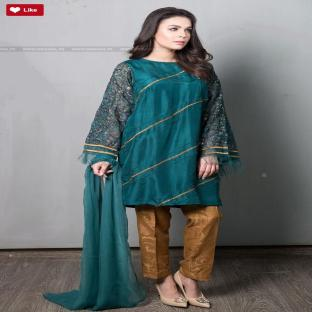Human: (44, 7, 242, 311)
